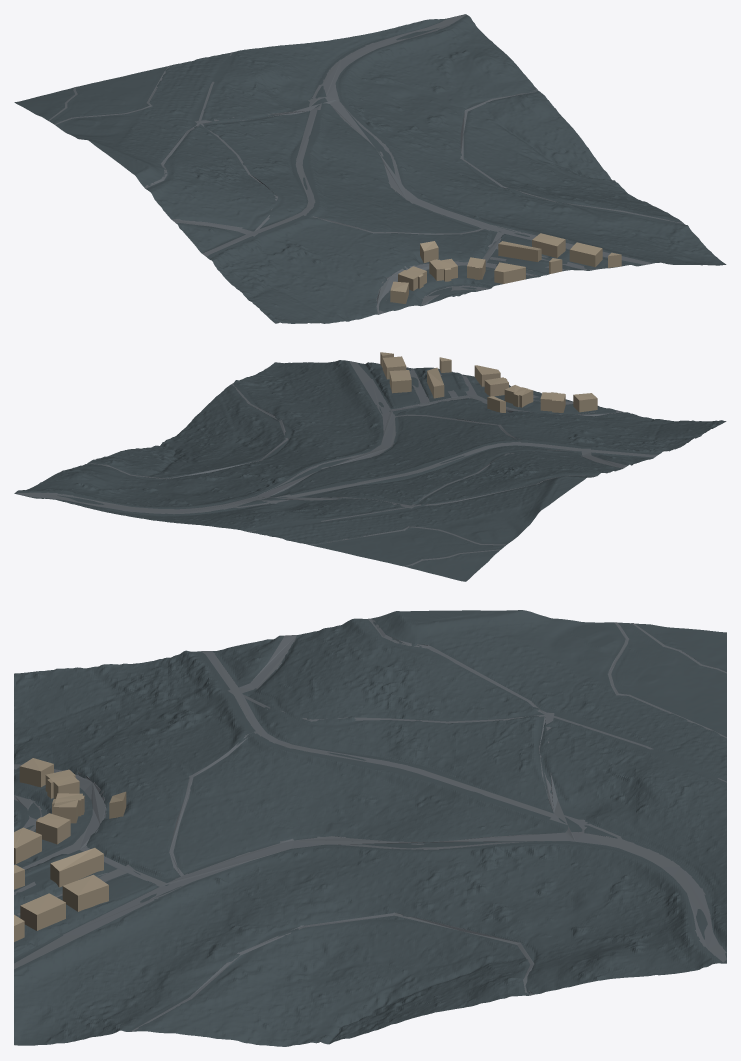
File: epsg26910-1425-10893.lod0.glb
3 renders of one model, top to bottom at view 1: azimuth 30°, elevation 25°; view 2: azimuth 150°, elevation 25°; view 3: azimuth 270°, elevation 25°, orthographic. The views are drawn at different scales.
Parts seen in each view (by area): view 1: epsg26910-1425-10893-lod0; view 2: epsg26910-1425-10893-lod0; view 3: epsg26910-1425-10893-lod0.
Boxes of the visible parts, box(x1,y1,x2,y2) form: epsg26910-1425-10893-lod0: box(14, 14, 726, 323); epsg26910-1425-10893-lod0: box(14, 352, 726, 581); epsg26910-1425-10893-lod0: box(14, 610, 726, 1046).
Size of the model in its own units: 384 by 80.58 by 384.
